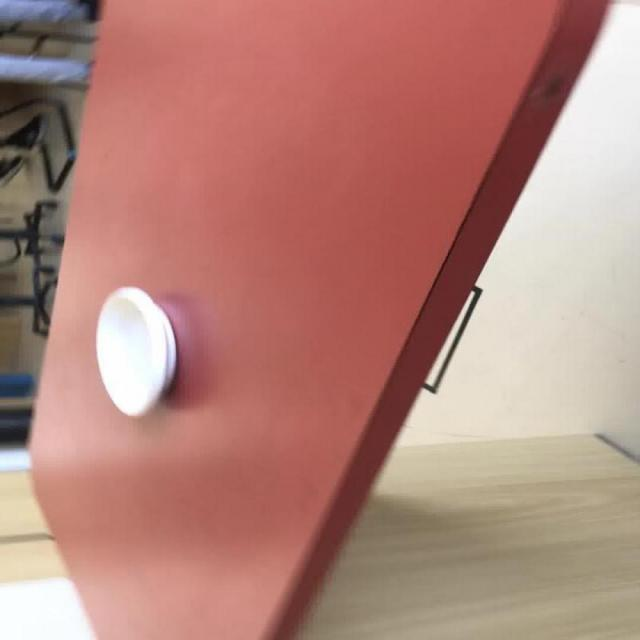Plate: (24, 0, 612, 638), (94, 285, 178, 417)
